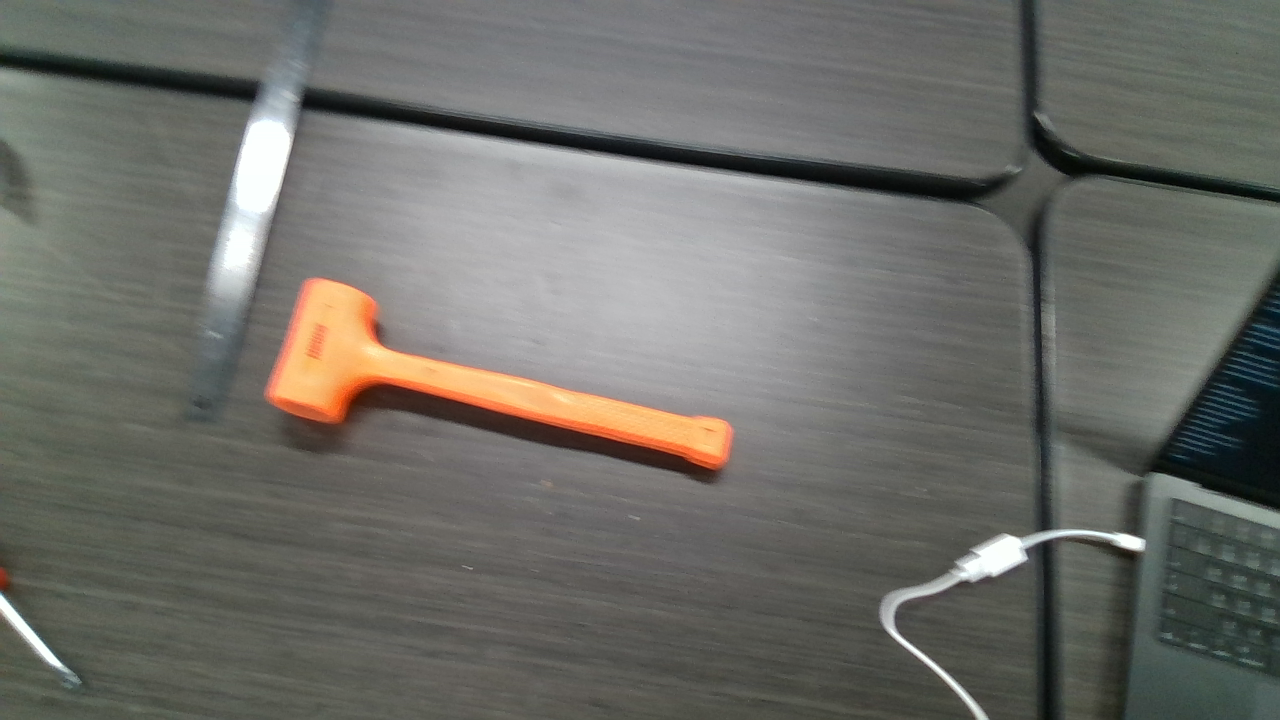Orange Hammer: (270, 276, 736, 470)
